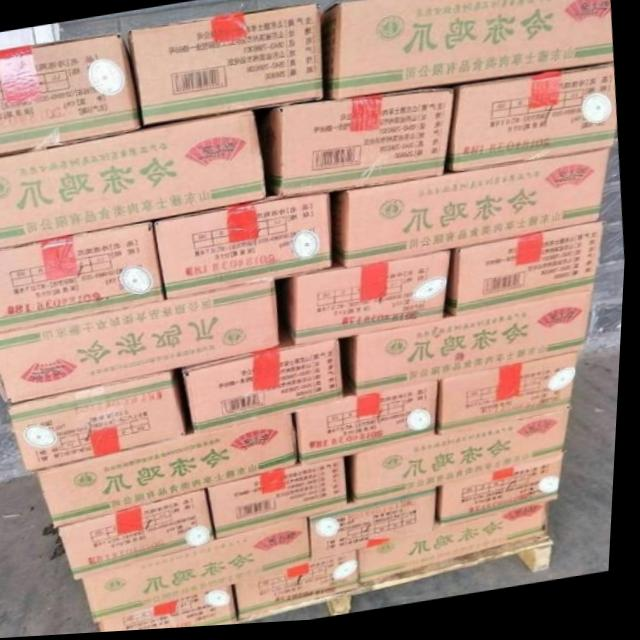box: (0, 112, 265, 250), (0, 281, 283, 406), (332, 161, 612, 274), (321, 0, 614, 103), (43, 413, 301, 528), (126, 3, 329, 129), (346, 298, 598, 399), (85, 524, 314, 625), (353, 409, 575, 510), (269, 91, 455, 203), (157, 196, 336, 302), (0, 224, 168, 334), (10, 373, 194, 472), (448, 68, 616, 176), (0, 33, 140, 155), (286, 256, 457, 348), (181, 342, 348, 435), (360, 508, 551, 588), (450, 225, 608, 320), (65, 490, 222, 578), (210, 461, 360, 544), (297, 386, 441, 470), (441, 360, 586, 439), (310, 489, 445, 565), (441, 463, 571, 530), (241, 556, 371, 620), (102, 590, 248, 634)
